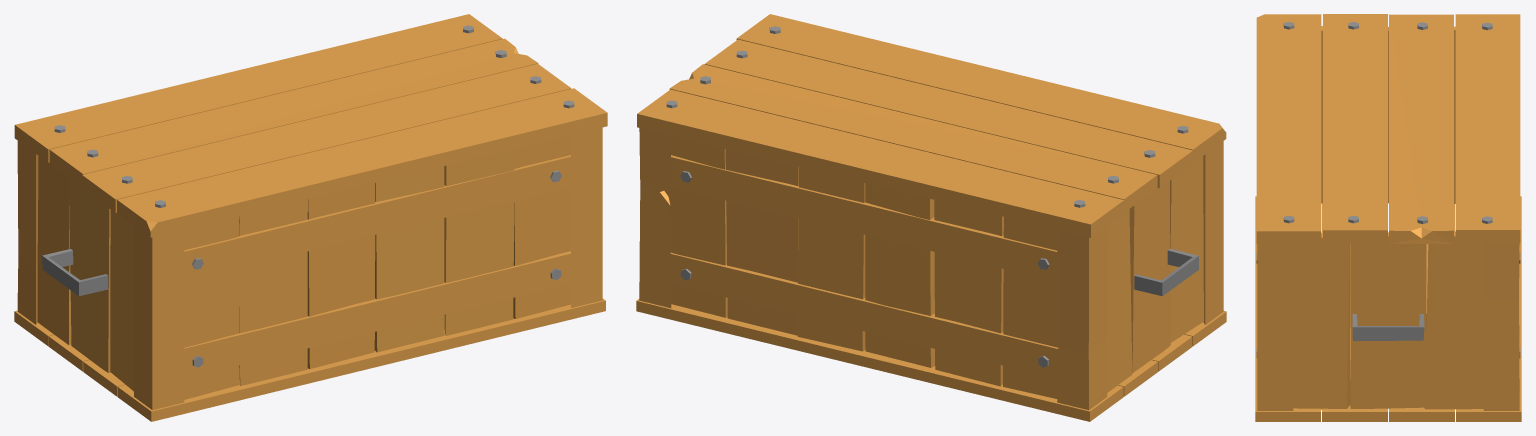
Rendered from crate.02.fbx.
3 renders of one model, left to right at view 1: azimuth 30°, elevation 25°; view 2: azimuth 150°, elevation 25°; view 3: azimuth 270°, elevation 25°, orthographic. The views are drawn at different scales.
Parts seen in each view (by area): view 1: crate.02; view 2: crate.02; view 3: crate.02.
Part boxes in pixels (bbox=[...]): crate.02: bbox=[14, 14, 607, 421]; crate.02: bbox=[636, 14, 1226, 421]; crate.02: bbox=[1255, 14, 1521, 421].
Size of the model in its own units: 1.39 by 0.5315 by 0.66.
